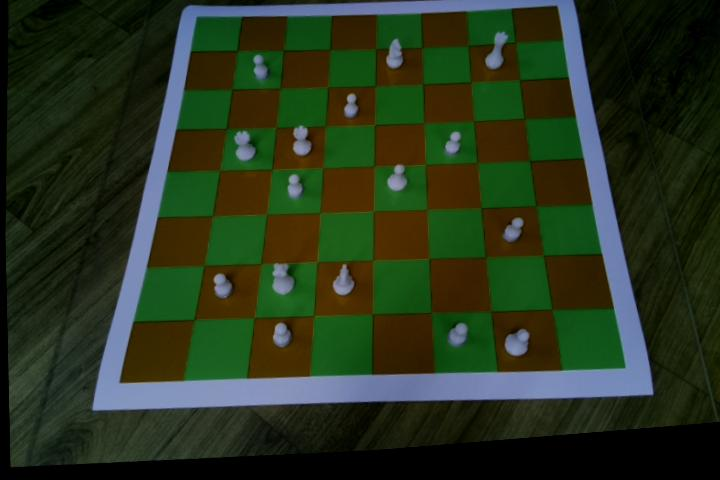chessboard-detect: (117, 15, 627, 386)
